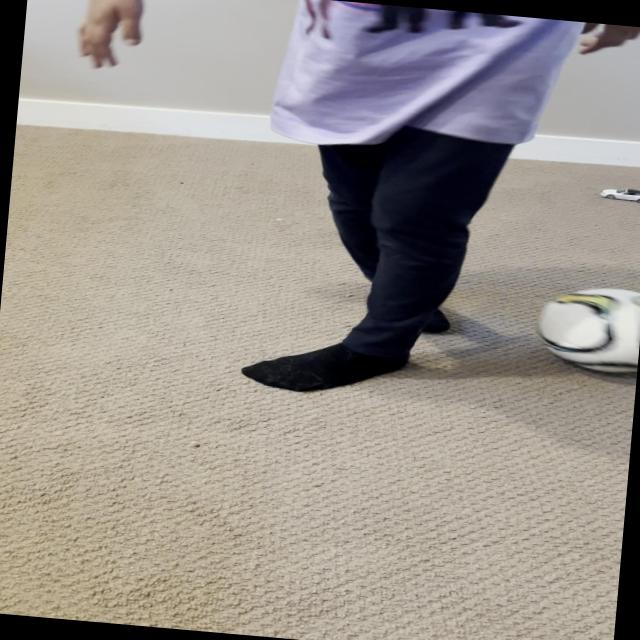Soccer Ball: (535, 280, 640, 375)
